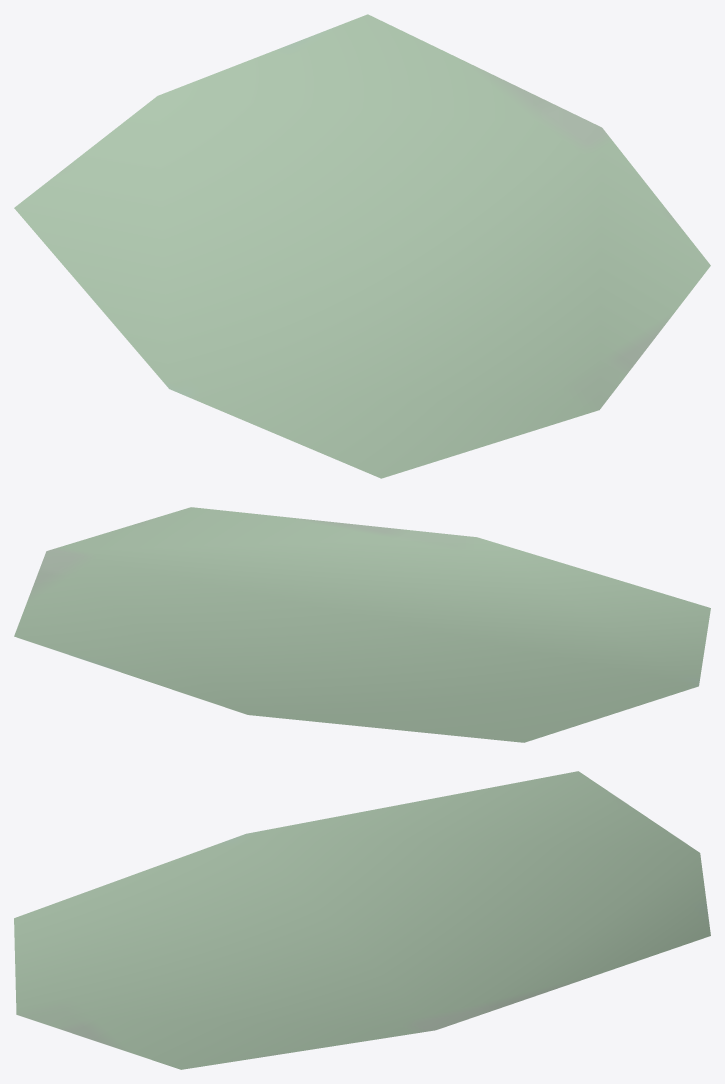
File: TROLLHOLE02_HOLECAP57.fbx
The picture shows the model from 3 angles, top to bottom: view 1: azimuth 30°, elevation 25°; view 2: azimuth 150°, elevation 25°; view 3: azimuth 270°, elevation 25°; orthographic projection. The views are drawn at different scales.
Parts seen in each view (by area): view 1: TROLLHOLE02_HOLECAP57; view 2: TROLLHOLE02_HOLECAP57; view 3: TROLLHOLE02_HOLECAP57.
Part boxes in pixels (x1,y1,x2,y2): TROLLHOLE02_HOLECAP57: (14, 14, 710, 478); TROLLHOLE02_HOLECAP57: (14, 507, 710, 742); TROLLHOLE02_HOLECAP57: (14, 771, 710, 1069).
Size of the model in its own units: 17096 by 4368 by 18952.
Materials: 1 (1 with a texture image).
